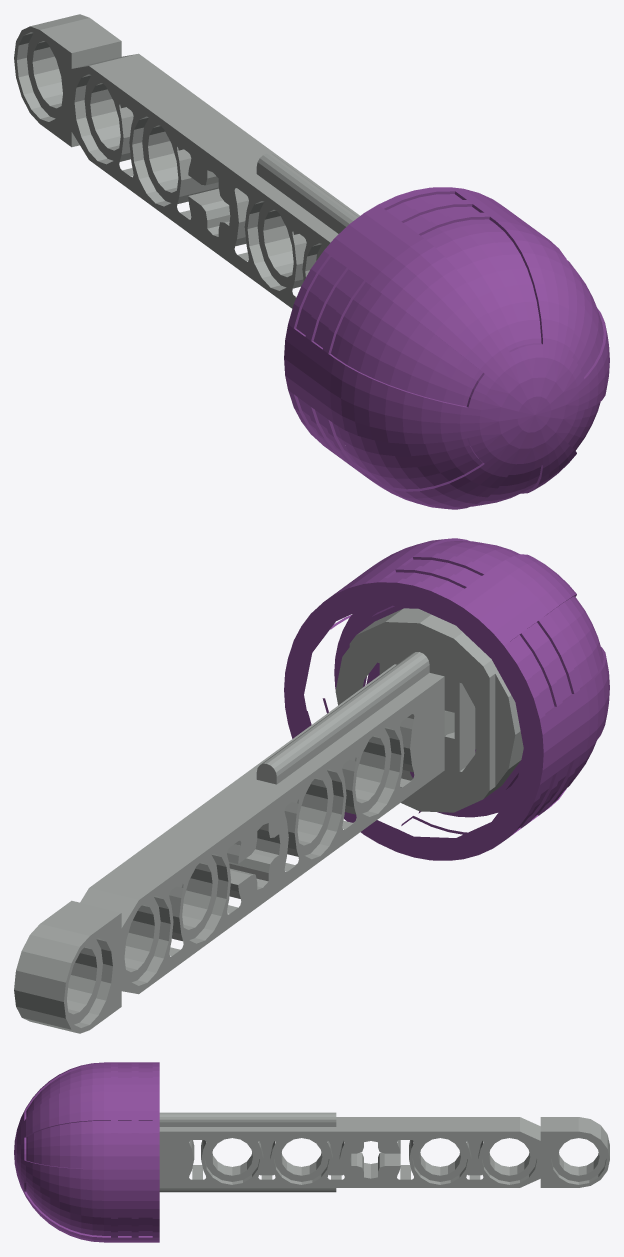
3 renders of one model, top to bottom at view 1: azimuth 30°, elevation 25°; view 2: azimuth 150°, elevation 25°; view 3: azimuth 270°, elevation 25°, orthographic. The views are drawn at different scales.
Visible parts, largest first — view 1: world; view 2: world; view 3: world.
Boxes of the visible parts, x1,y1,x2,y2 form: world: (14,14,609,509); world: (14,538,609,1033); world: (14,1062,609,1242).
Bounding box in the file's own units: 0.0208 × 0.0208 × 0.0688.
